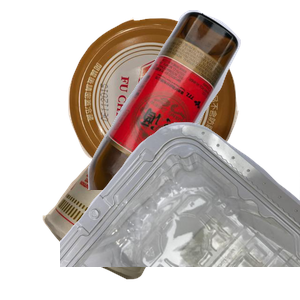glass: (85, 10, 300, 190)
metal: (66, 15, 297, 193)
plastic: (60, 120, 300, 300)
trash: (40, 121, 221, 300)
